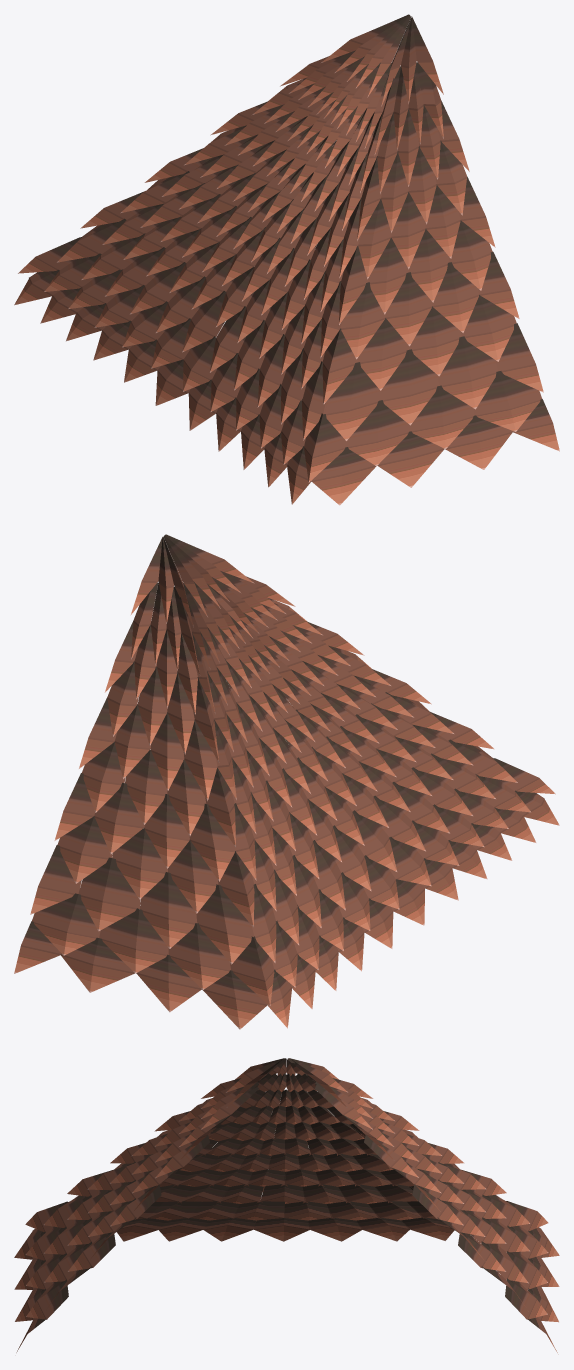
Rendered from Steeple_Roof_Corner_LOD1.fbx.
The picture shows the model from 3 angles, top to bottom: view 1: azimuth 30°, elevation 25°; view 2: azimuth 150°, elevation 25°; view 3: azimuth 270°, elevation 25°; orthographic projection. The views are drawn at different scales.
Parts seen in each view (by area): view 1: Steeple_Roof_Corner_LOD1; view 2: Steeple_Roof_Corner_LOD1; view 3: Steeple_Roof_Corner_LOD1.
Part boxes in pixels (<box>): Steeple_Roof_Corner_LOD1: <box>14,14,559,505</box>; Steeple_Roof_Corner_LOD1: <box>14,534,559,1029</box>; Steeple_Roof_Corner_LOD1: <box>14,1058,559,1354</box>.
Bounding box in the file's own units: 248 × 299 × 496.
